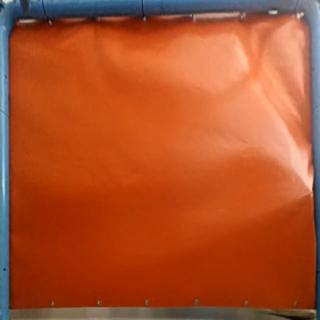Hit-hRxx: (304, 183, 314, 199)
